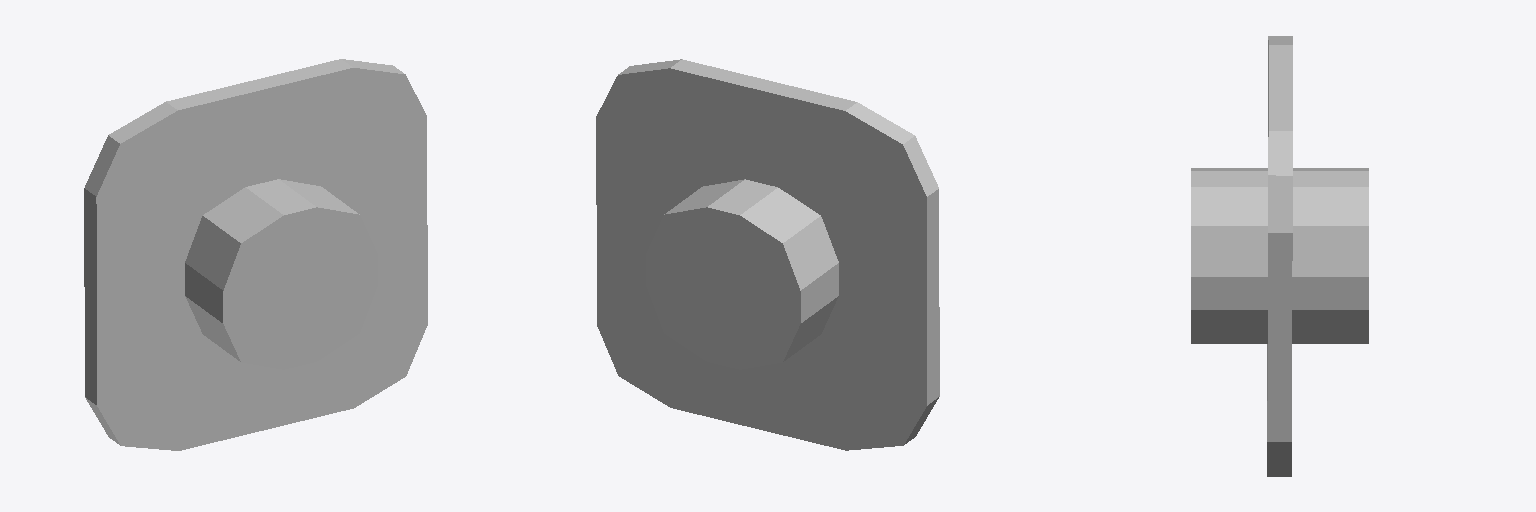
File: Platform2.obj
The picture shows the model from 3 angles: view 1: azimuth 30°, elevation 25°; view 2: azimuth 150°, elevation 25°; view 3: azimuth 270°, elevation 25°; orthographic projection.
Visible parts, largest first — view 1: Cube.001, Cube.008, Cube.002, Cube.004, Cube.006, Cube, Cube.009, Cube.007, Cube.003, Cube.005; view 2: Cube.001, Cube.008, Cube.002, Cube.004, Cube.006, Cube, Cube.009, Cube.007, Cube.003, Cube.005; view 3: Cube.001, Cube.004, Cube.003, Cube.002, Cube.005.
Boxes of the visible parts, x1=… form: Cube.001: x1=185, y1=179, x2=377, y2=369; Cube.008: x1=84, y1=177, x2=178, y2=405; Cube.002: x1=166, y1=59, x2=353, y2=176; Cube.004: x1=354, y1=116, x2=427, y2=342; Cube.006: x1=179, y1=343, x2=353, y2=450; Cube: x1=178, y1=134, x2=353, y2=385; Cube.009: x1=85, y1=102, x2=177, y2=196; Cube.007: x1=85, y1=386, x2=178, y2=450; Cube.003: x1=342, y1=59, x2=426, y2=133; Cube.005: x1=354, y1=325, x2=427, y2=407; Cube.001: x1=646, y1=179, x2=838, y2=369; Cube.008: x1=845, y1=177, x2=939, y2=405; Cube.002: x1=670, y1=59, x2=856, y2=176; Cube.004: x1=596, y1=117, x2=669, y2=342; Cube.006: x1=670, y1=343, x2=845, y2=450; Cube: x1=670, y1=135, x2=845, y2=385; Cube.009: x1=845, y1=102, x2=938, y2=196; Cube.007: x1=846, y1=386, x2=938, y2=450; Cube.003: x1=596, y1=59, x2=681, y2=133; Cube.005: x1=597, y1=325, x2=670, y2=407; Cube.001: x1=1191, y1=168, x2=1368, y2=343; Cube.004: x1=1267, y1=233, x2=1292, y2=441; Cube.003: x1=1268, y1=131, x2=1292, y2=232; Cube.002: x1=1268, y1=45, x2=1292, y2=133; Cube.005: x1=1267, y1=442, x2=1291, y2=476.
Bounding box in the file's own units: 7.51 × 7.38 × 3.5.